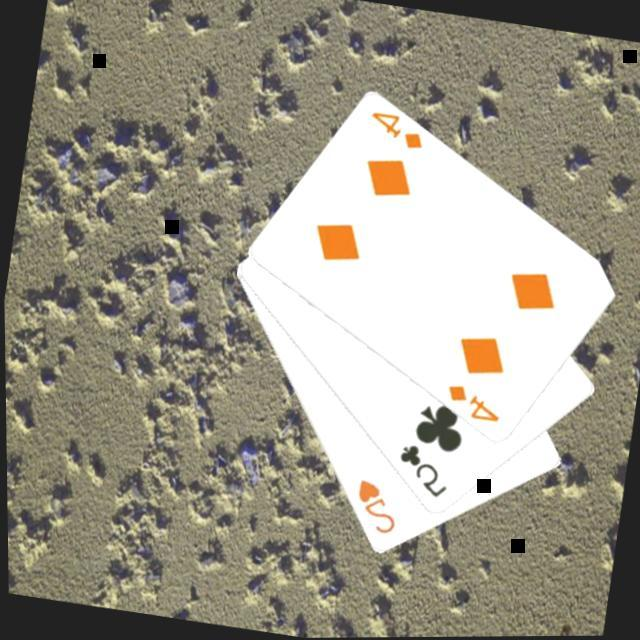2H: (347, 474, 405, 539)
4D: (364, 106, 432, 153), (440, 379, 507, 426)
5C: (390, 438, 456, 502)
